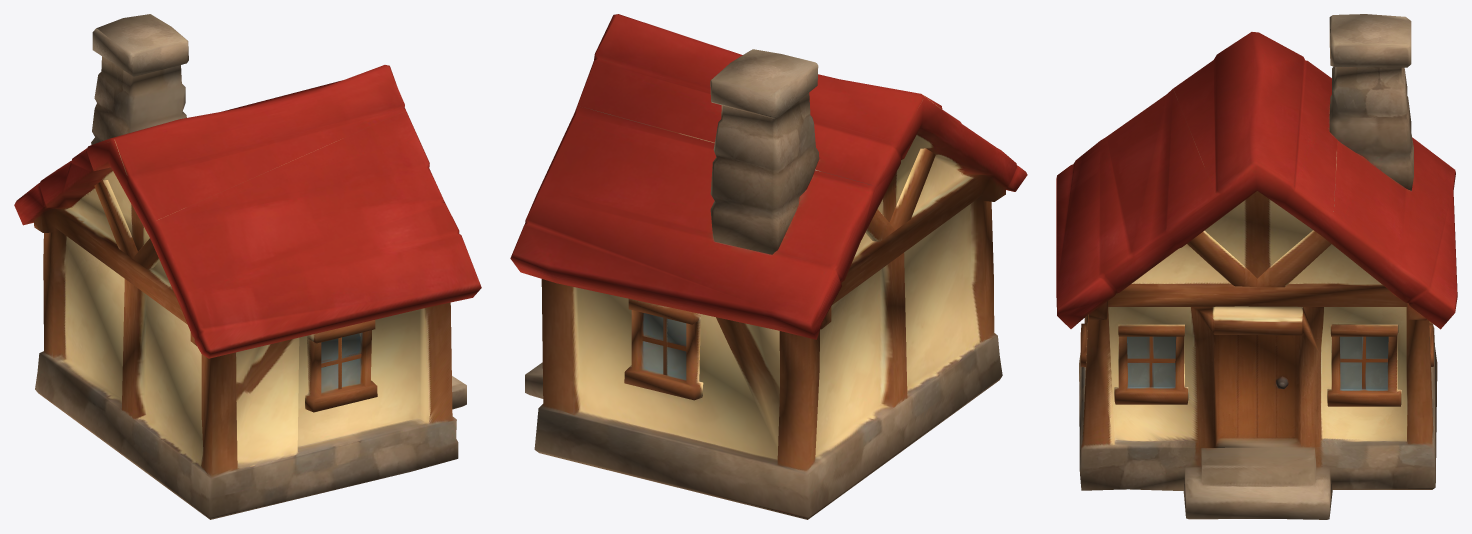
Rendered from cabin.glb.
The picture shows the model from 3 angles, left to right: view 1: azimuth 30°, elevation 25°; view 2: azimuth 150°, elevation 25°; view 3: azimuth 270°, elevation 25°; orthographic projection. The views are drawn at different scales.
Parts seen in each view (by area): view 1: tripo_node_822d892b-b159-42a2-97ef-17e68283dc31; view 2: tripo_node_822d892b-b159-42a2-97ef-17e68283dc31; view 3: tripo_node_822d892b-b159-42a2-97ef-17e68283dc31.
Part boxes in pixels (x1,y1,x2,y2): tripo_node_822d892b-b159-42a2-97ef-17e68283dc31: [14, 14, 481, 519]; tripo_node_822d892b-b159-42a2-97ef-17e68283dc31: [510, 14, 1027, 519]; tripo_node_822d892b-b159-42a2-97ef-17e68283dc31: [1056, 14, 1457, 519].
Size of the model in its own units: 0.9199 by 0.998 by 0.9668.
1 material, 1 textured.
